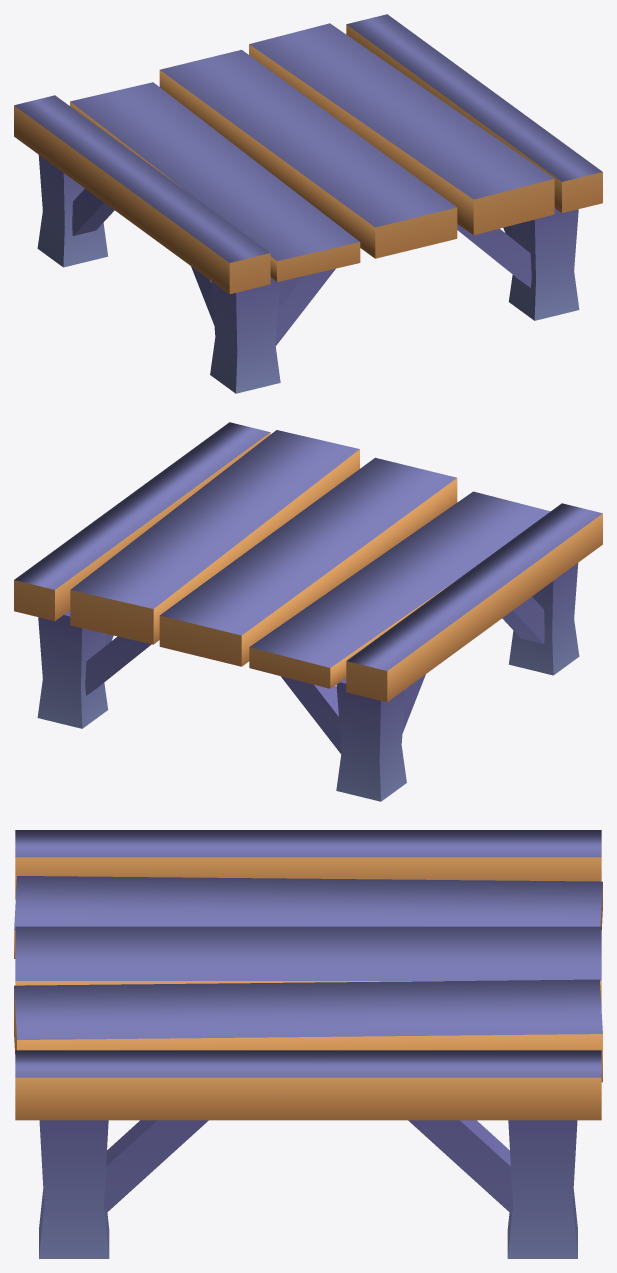
File: structure-platform.fbx
3 renders of one model, top to bottom at view 1: azimuth 30°, elevation 25°; view 2: azimuth 150°, elevation 25°; view 3: azimuth 270°, elevation 25°, orthographic. The views are drawn at different scales.
Parts seen in each view (by area): view 1: structure-platform; view 2: structure-platform; view 3: structure-platform.
Boxes of the visible parts, x1,y1,x2,y2 form: structure-platform: (14, 14, 602, 393); structure-platform: (14, 422, 602, 801); structure-platform: (14, 830, 602, 1258).
Size of the model in its own units: 250 by 92.8 by 251.
